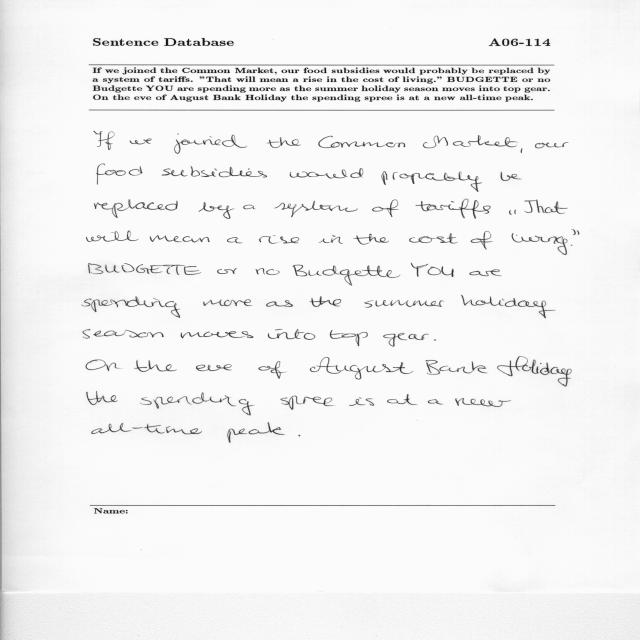word: (140, 393, 254, 416), (497, 356, 572, 387), (293, 265, 401, 286), (310, 357, 413, 379), (461, 295, 556, 318), (82, 296, 180, 318), (381, 171, 482, 192), (94, 199, 178, 218), (174, 133, 247, 154), (415, 199, 491, 219), (89, 263, 202, 275), (274, 201, 357, 217), (423, 136, 518, 149), (512, 233, 568, 255), (227, 422, 285, 443), (92, 423, 202, 434), (162, 166, 267, 177), (319, 136, 406, 148), (96, 164, 143, 185), (426, 360, 487, 375), (290, 168, 363, 179), (280, 396, 334, 410), (83, 330, 164, 339), (524, 199, 568, 214), (365, 300, 445, 308), (86, 230, 139, 242), (198, 202, 235, 219), (330, 330, 368, 346), (411, 263, 454, 277), (383, 333, 429, 346), (409, 233, 458, 244), (268, 329, 315, 340), (134, 360, 177, 372), (181, 331, 254, 338), (455, 398, 511, 407), (259, 361, 286, 379), (150, 235, 210, 243), (372, 200, 399, 217), (87, 391, 118, 405), (86, 359, 120, 371), (94, 131, 115, 150), (471, 231, 493, 249), (266, 137, 301, 148), (354, 234, 389, 245), (259, 235, 299, 244), (310, 296, 342, 307), (203, 299, 252, 306), (387, 394, 417, 405), (196, 364, 232, 371), (469, 269, 502, 276), (349, 397, 374, 406), (319, 235, 343, 244), (535, 142, 568, 148), (501, 172, 522, 181), (266, 300, 293, 307), (255, 268, 280, 275), (130, 139, 152, 145), (217, 268, 237, 274), (227, 237, 242, 243), (428, 400, 443, 405), (243, 205, 256, 209), (509, 210, 516, 215), (573, 230, 580, 235), (521, 148, 523, 153), (434, 339, 436, 341), (299, 435, 301, 437), (571, 245, 572, 246)
